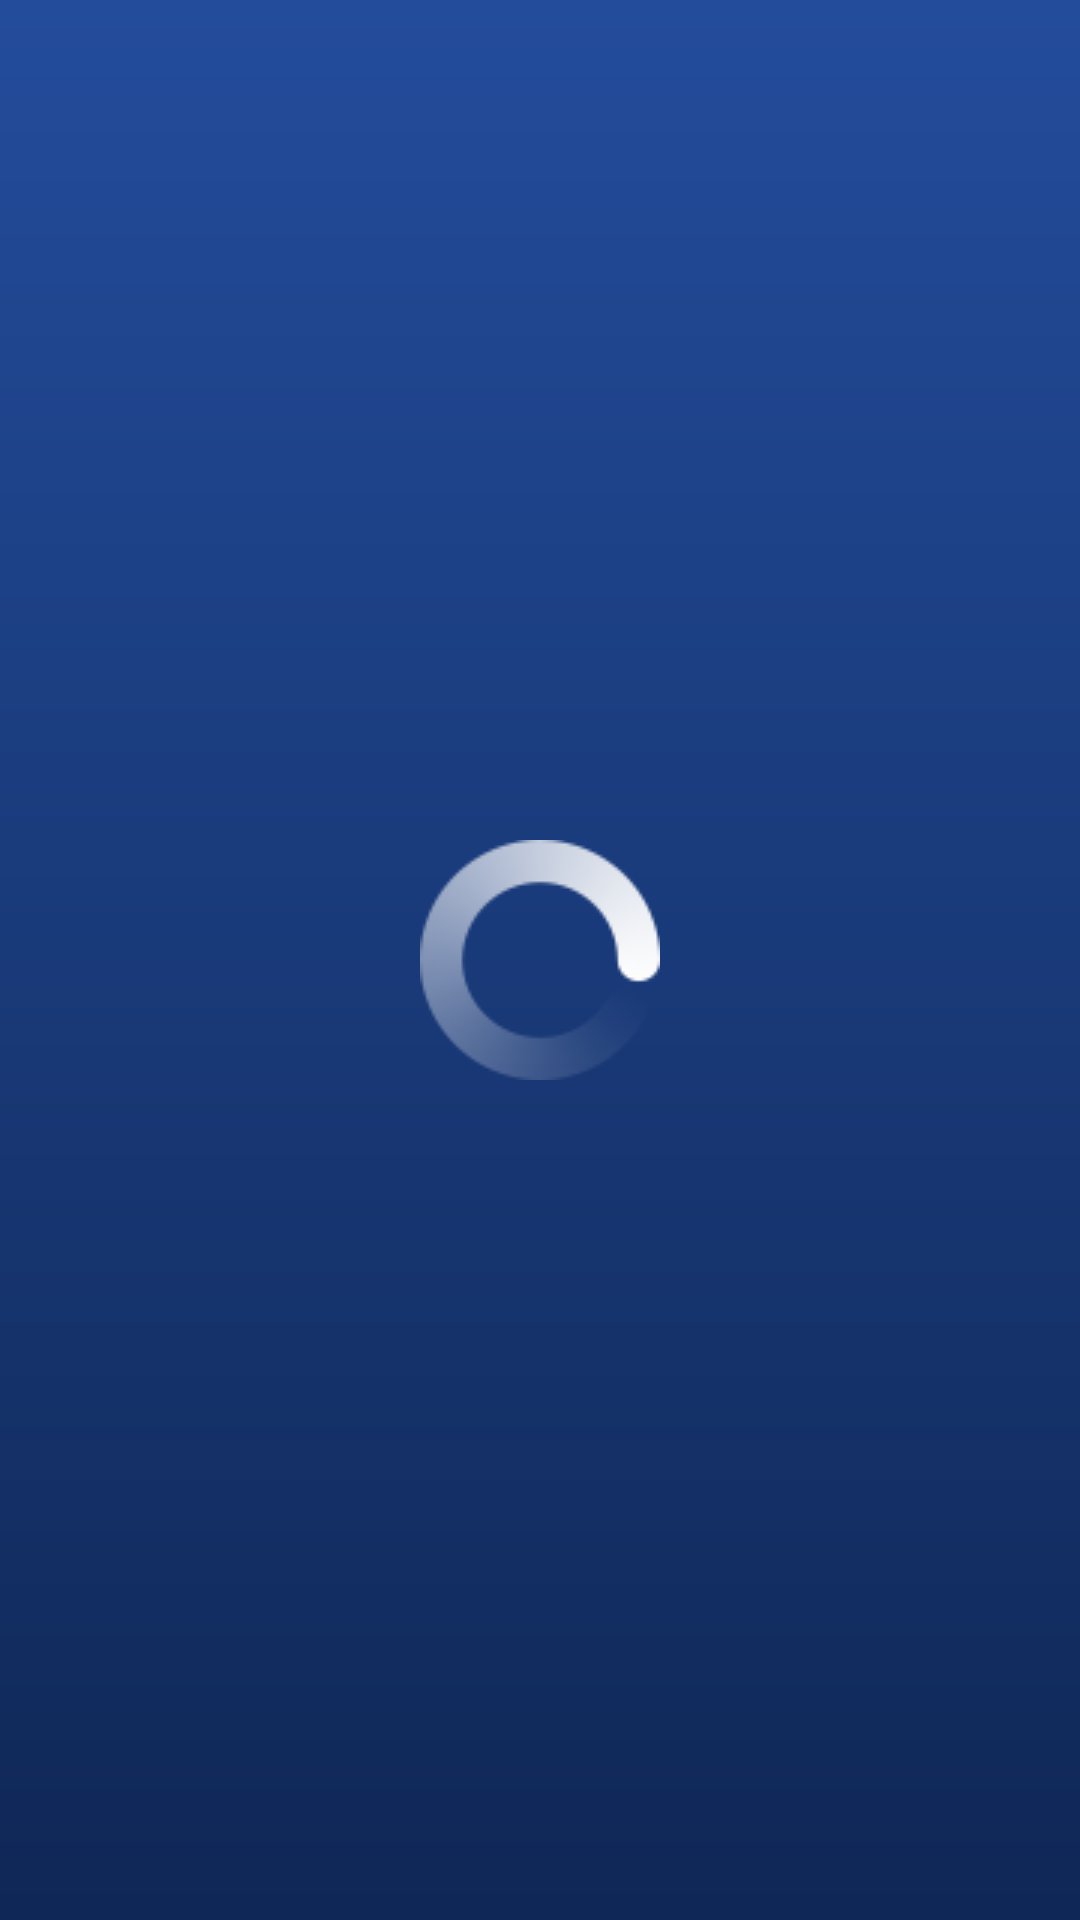

Point at icon controls on the screen. Image size 1080 x 1920, points as (x,y).
loading: (540,960)
